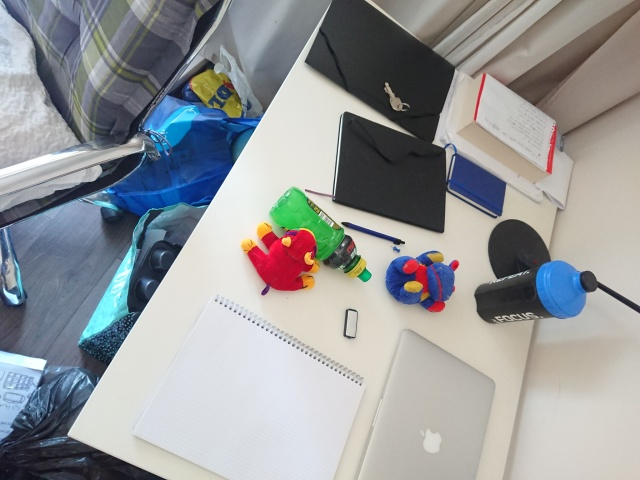Vindi Iso Sport Lemon-Grapefruit 500mL: (266, 184, 374, 285)
